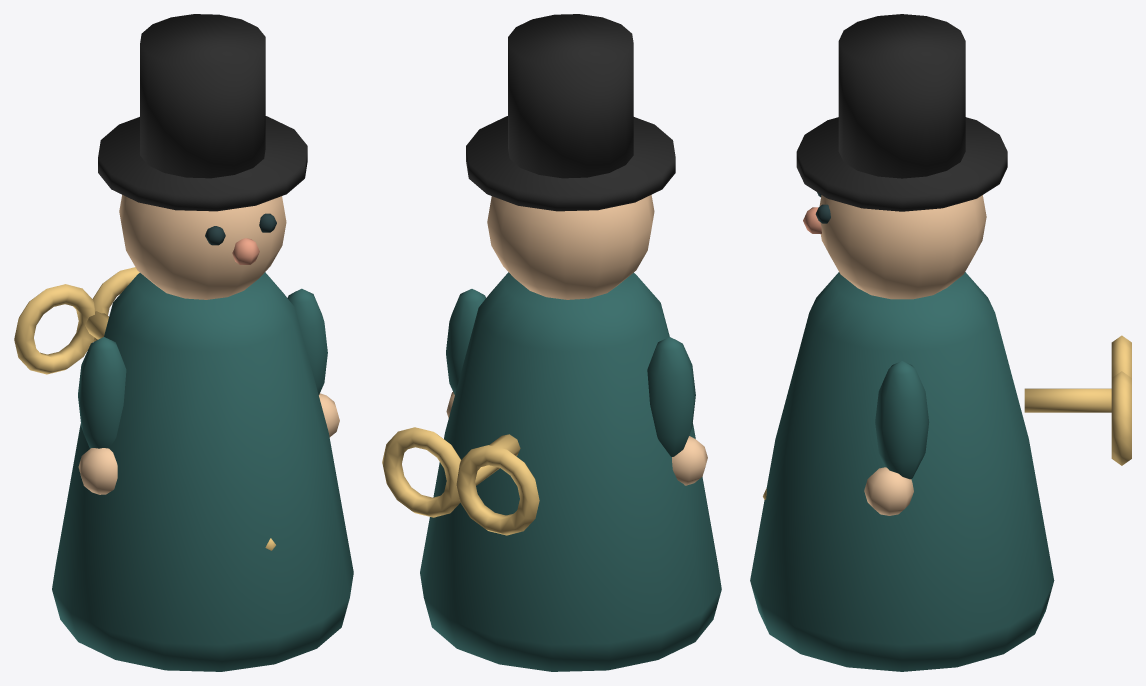
File: townsfolk.glb
3 renders of one model, left to right at view 1: azimuth 30°, elevation 25°; view 2: azimuth 150°, elevation 25°; view 3: azimuth 270°, elevation 25°, orthographic.
Parts seen in each view (by area): view 1: coat, hat-top, head, hat-brim, arm--1, key-loop--1, arm-1, hand--1, key-loop-1, nose, hand-1; view 2: coat, hat-top, head, hat-brim, arm--1, key-loop--1, key-loop-1, arm-1, hand--1, key-shaft; view 3: coat, hat-top, head, hat-brim, arm-1, key-shaft, key-loop-1, hand-1, key-loop--1.
Part boxes in pixels (x1,y1,x2,y2): coat: (52,272,353,671); hat-top: (140,14,265,178); head: (119,194,286,299); hat-brim: (98,116,307,211); arm--1: (78,337,126,448); key-loop--1: (14,284,95,374); arm-1: (287,288,327,394); hand--1: (78,448,117,494); key-loop-1: (93,267,139,341); nose: (232,238,259,264); hand-1: (319,393,339,437); coat: (420,272,721,671); hat-top: (508,14,633,178); head: (487,195,654,299); hat-brim: (466,116,675,211); arm--1: (647,337,695,456); key-loop--1: (456,445,539,535); key-loop-1: (382,427,460,517); arm-1: (446,289,485,394); hand--1: (672,436,707,485); key-shaft: (475,434,520,485); coat: (750,272,1054,671); hat-top: (838,14,965,178); head: (819,195,986,299); hat-brim: (796,117,1007,211); arm-1: (875,361,929,479); key-shaft: (1024,388,1111,412); key-loop-1: (1111,371,1131,465); hand-1: (864,467,913,515); key-loop--1: (1111,335,1131,377).
Size of the model in its own units: 0.72 by 1.49 by 0.9038.
